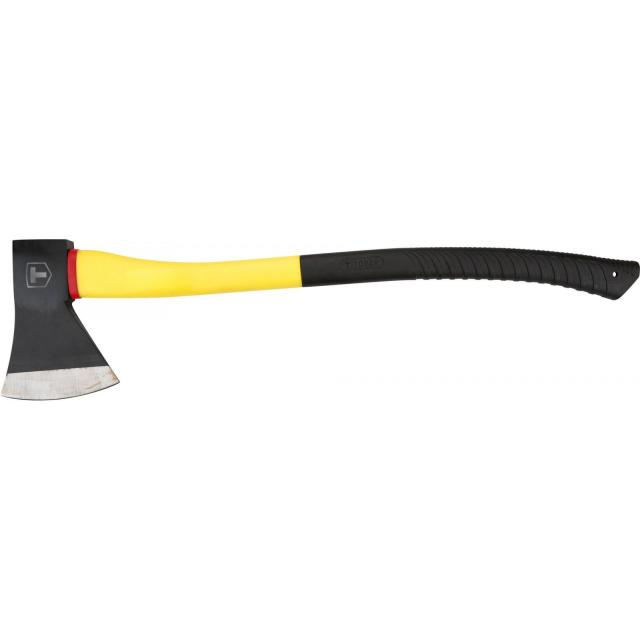Kapak: (12, 223, 640, 406)
